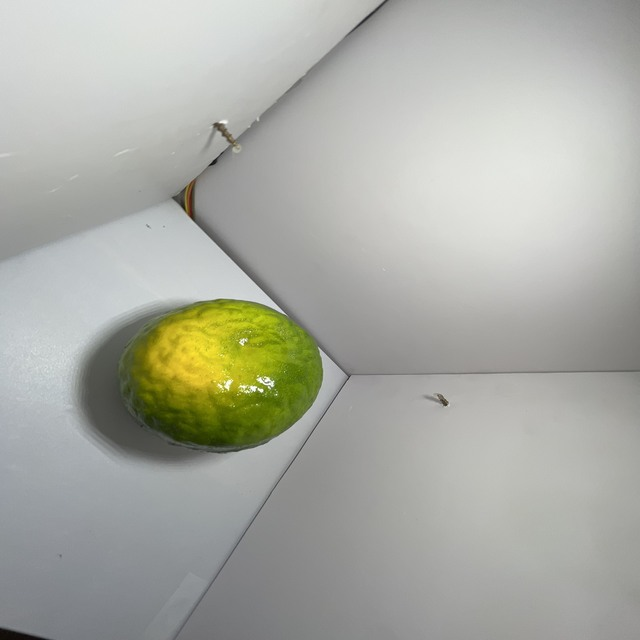Cam xanh: (112, 291, 330, 456)
